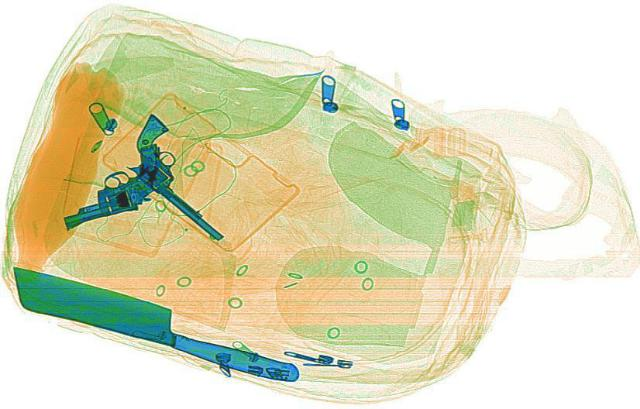Gun: (90, 111, 272, 242), (38, 142, 202, 239)
Knife: (0, 261, 326, 383)
